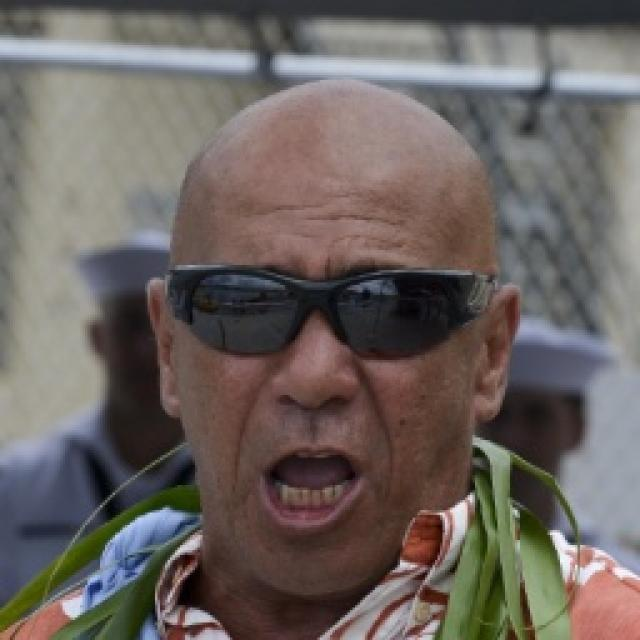glasses: (154, 250, 505, 374)
